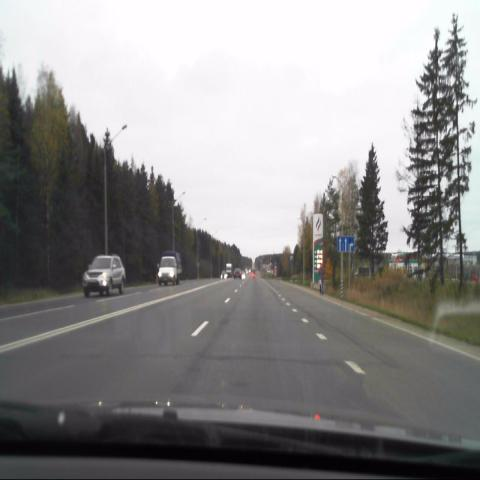5_15_1: (337, 237, 354, 251)
